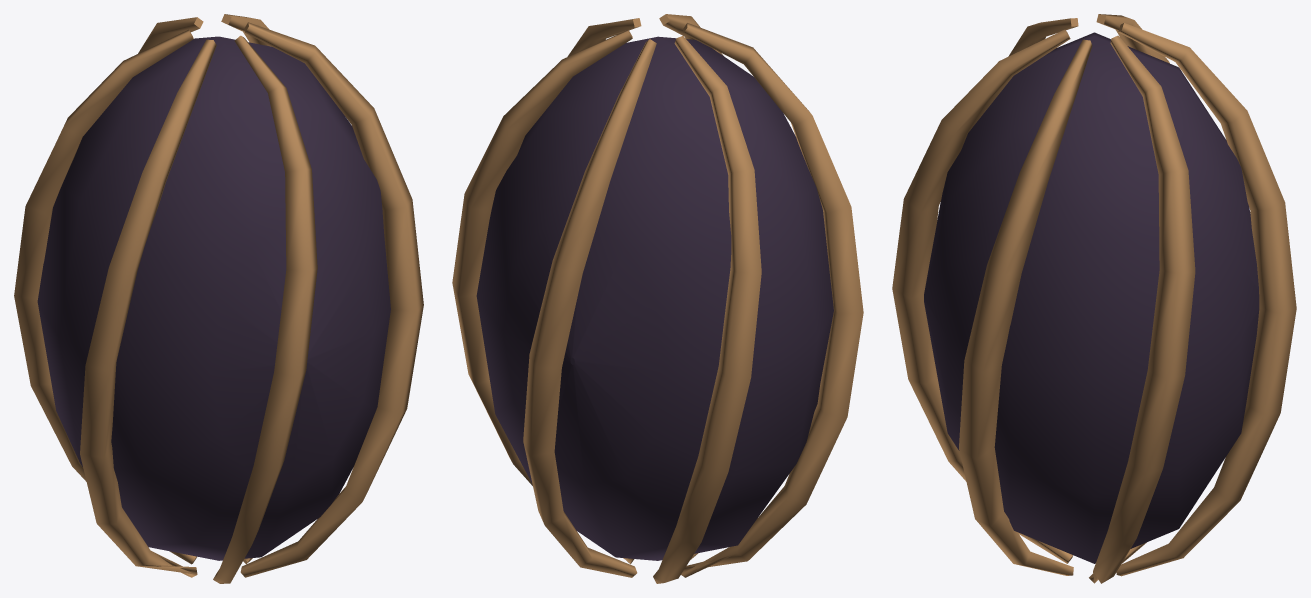
File: egg_1_far.glb
3 views of the same model, side by side, from view 1: azimuth 30°, elevation 25°; view 2: azimuth 150°, elevation 25°; view 3: azimuth 270°, elevation 25° (orthographic).
Visible parts, largest first — view 1: egg_1_far; view 2: egg_1_far; view 3: egg_1_far.
Part boxes in pixels (x1,y1,x2,y2): egg_1_far: (14, 14, 423, 583); egg_1_far: (452, 14, 863, 583); egg_1_far: (892, 14, 1296, 583).
Bounding box in the file's own units: 1.65 × 2.54 × 1.71.
